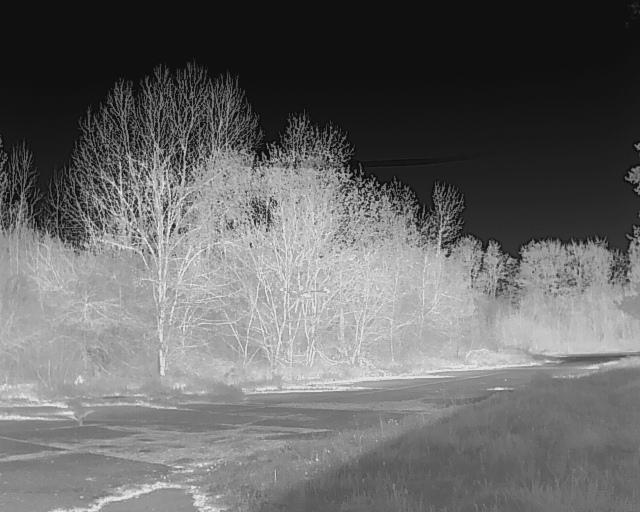drone: (276, 278, 332, 307)
